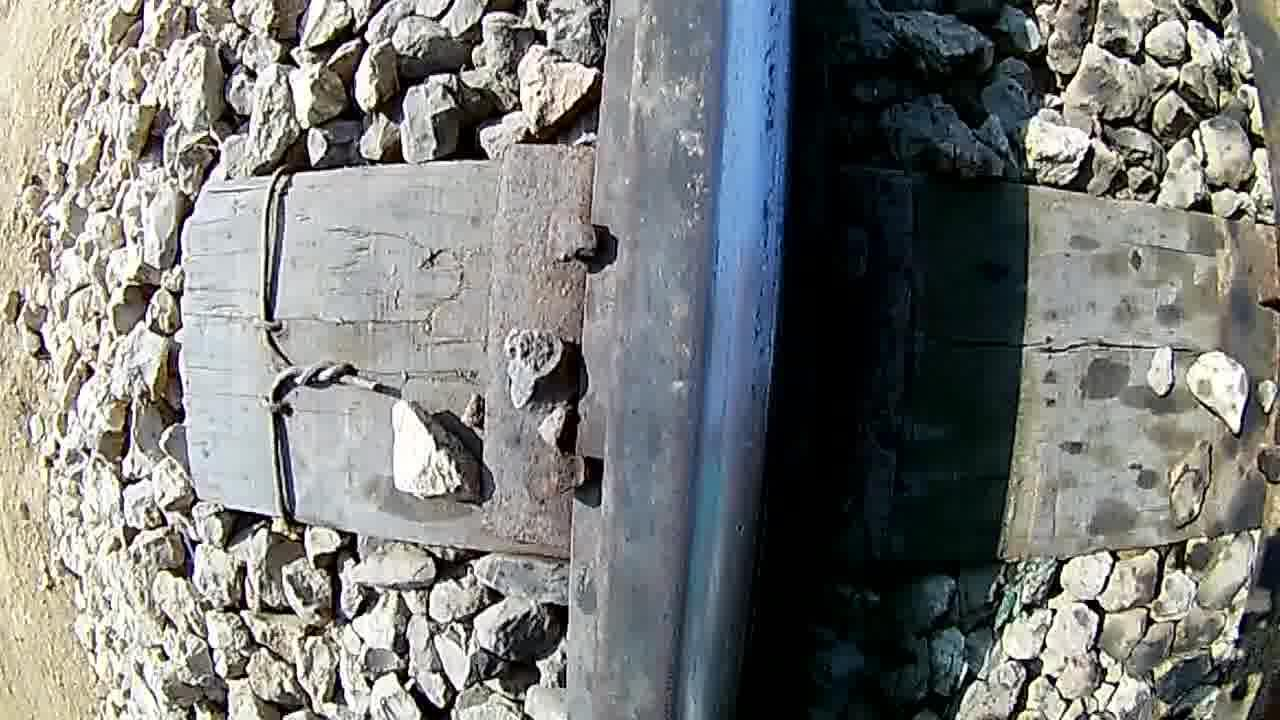crack: (608, 4, 796, 720)
